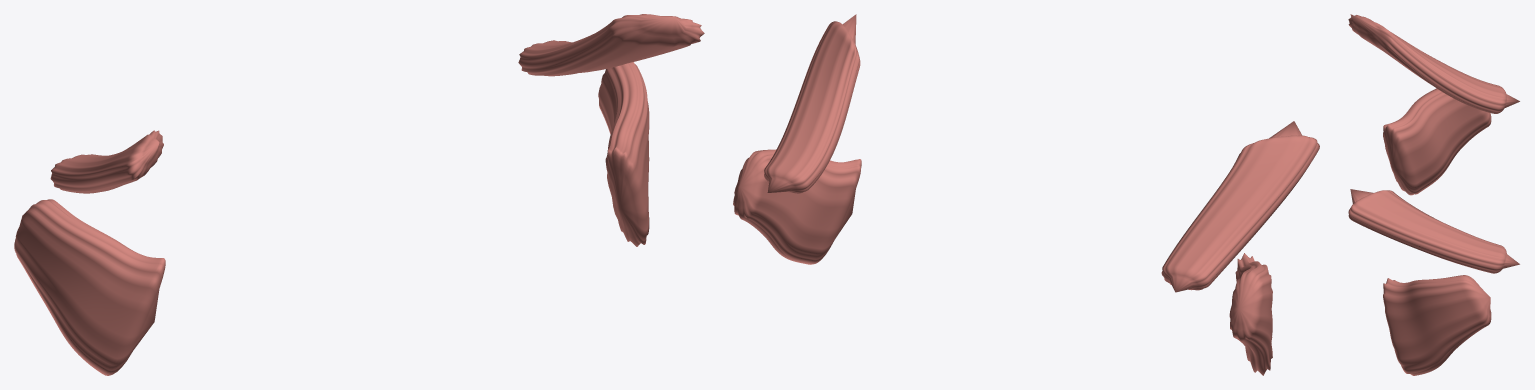
File: lateral_pterygoid.glb
The picture shows the model from 3 angles, left to right: view 1: azimuth 30°, elevation 25°; view 2: azimuth 150°, elevation 25°; view 3: azimuth 270°, elevation 25°; orthographic projection. The views are drawn at different scales.
Parts seen in each view (by area): view 1: lateral_pterygoid_R, lateral_pterygoid_L; view 2: lateral_pterygoid_L, lateral_pterygoid_R; view 3: lateral_pterygoid_L, lateral_pterygoid_R.
Part boxes in pixels (left/top/right/bottom): lateral_pterygoid_R: left=14, top=130, right=165, bottom=375; lateral_pterygoid_L: left=518, top=14, right=704, bottom=246; lateral_pterygoid_L: left=733, top=14, right=861, bottom=264; lateral_pterygoid_R: left=1161, top=121, right=1319, bottom=375; lateral_pterygoid_L: left=1348, top=189, right=1519, bottom=375; lateral_pterygoid_R: left=1348, top=14, right=1519, bottom=195.
Size of the model in its own units: 0.0817 by 0.0335 by 0.0284.
